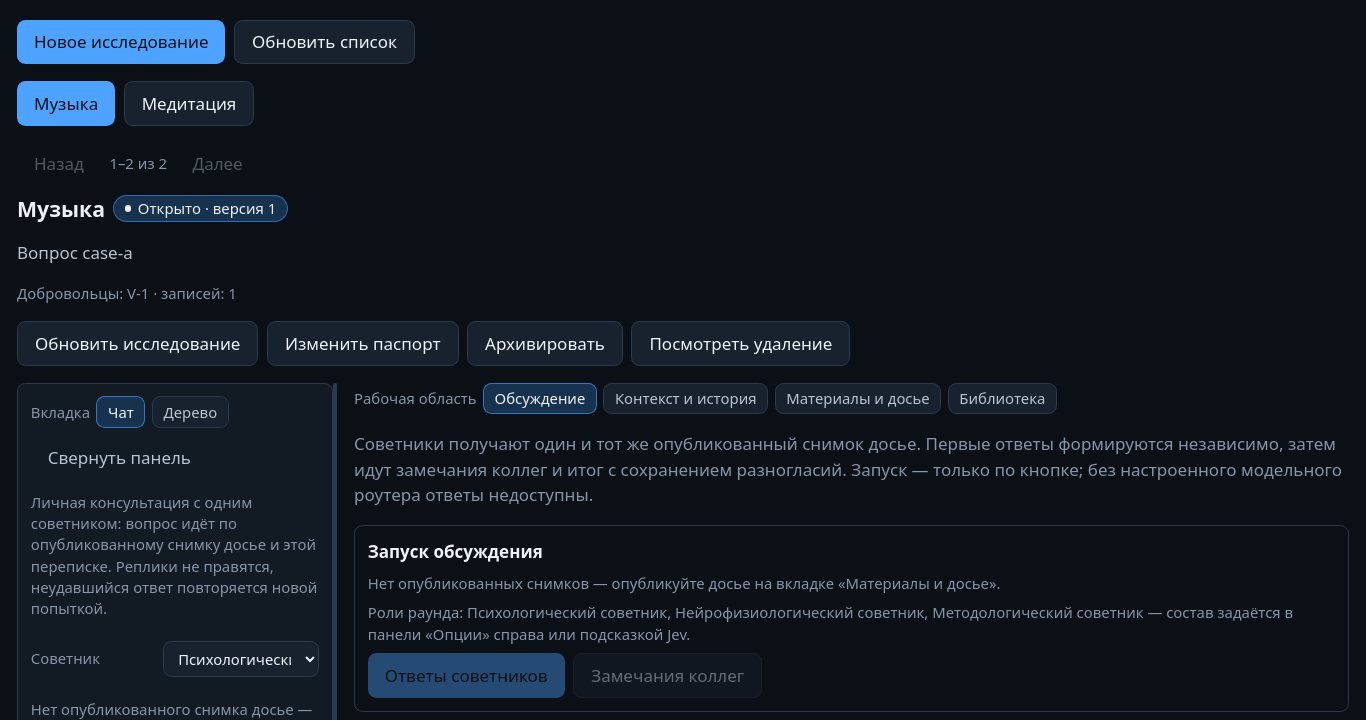
Test: Консилиум: ручное исследование Т1 › показывает 409 и сохраняет введённый контекст
The image size is (1366, 720).
Check: the heading "Музыка" is shown, box [17,194,105,223]
Step 1. Click the button "Контекст и история" → {"x": 686, "y": 398}, box [603,382,768,414]
(page scrolled)
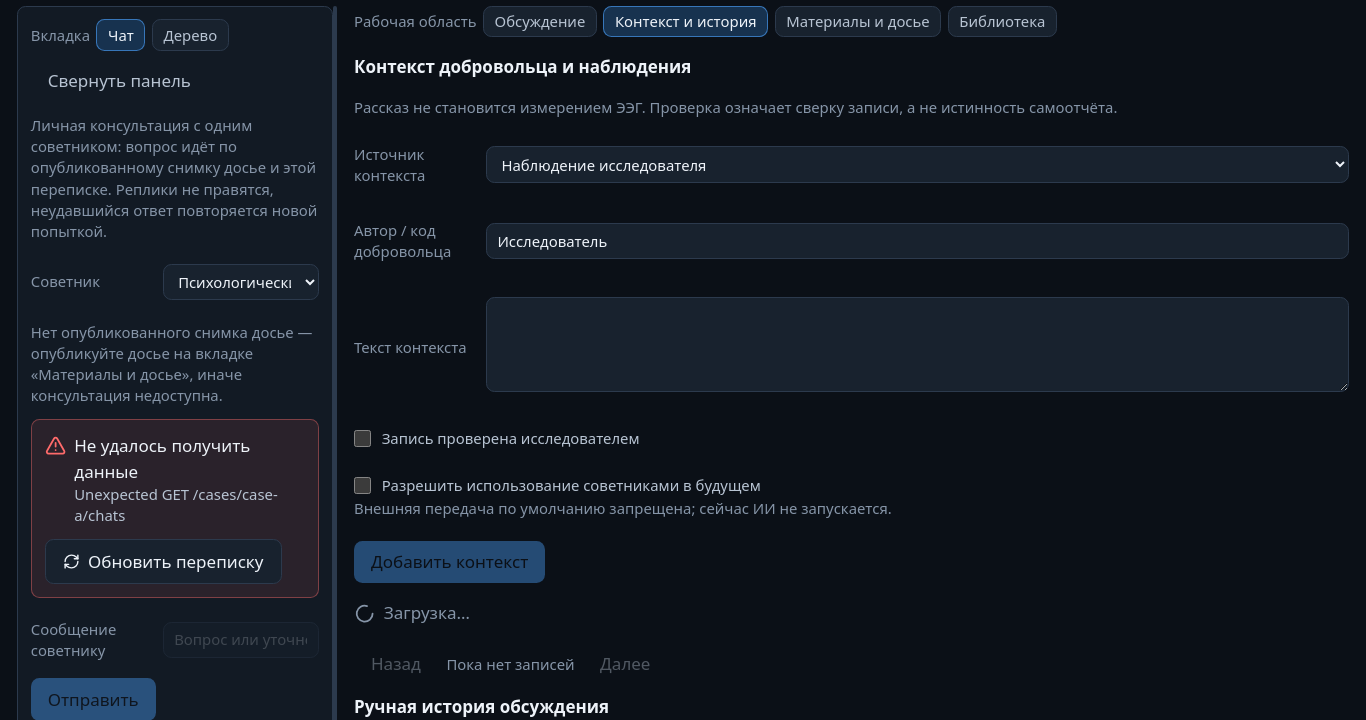
Step 2. Type "Черновик" into the text box labelled "Текст контекста" → {"x": 917, "y": 344}, box [486,296,1349,392]
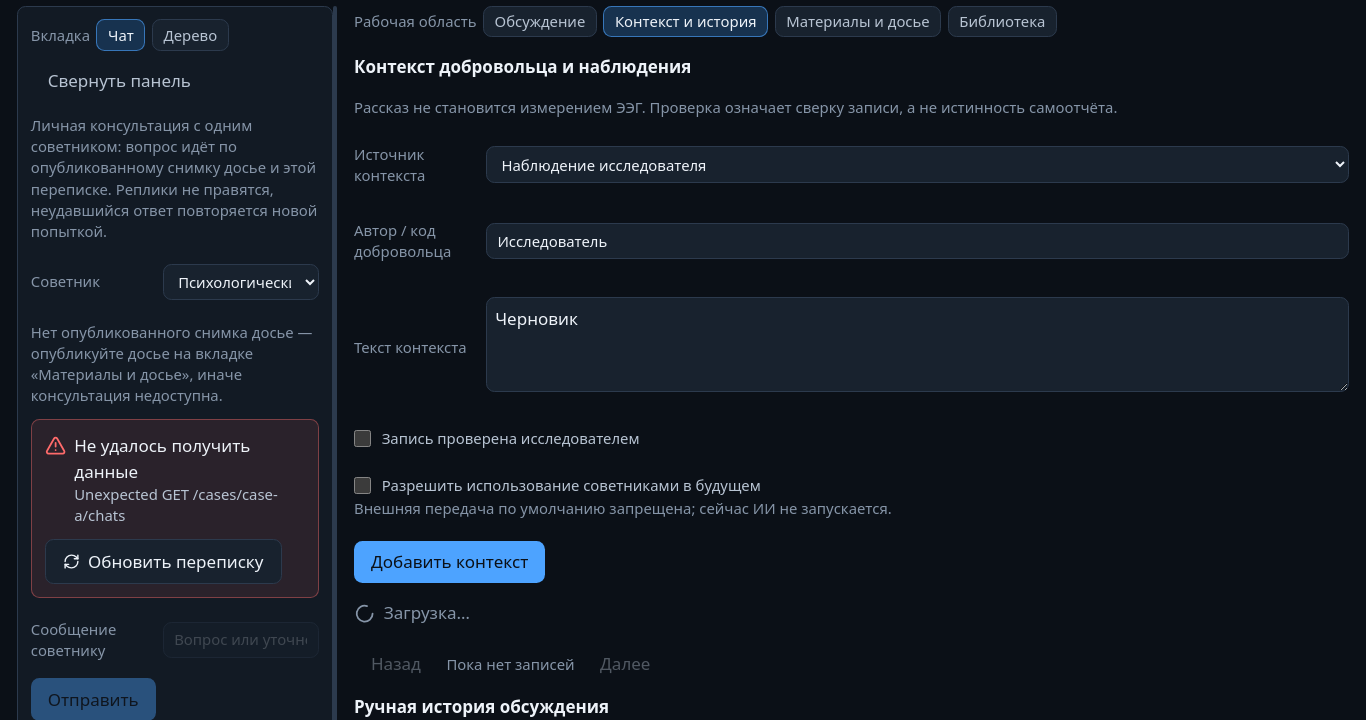
Step 3. Click the button "Добавить контекст" → {"x": 450, "y": 562}, box [354,541,545,583]
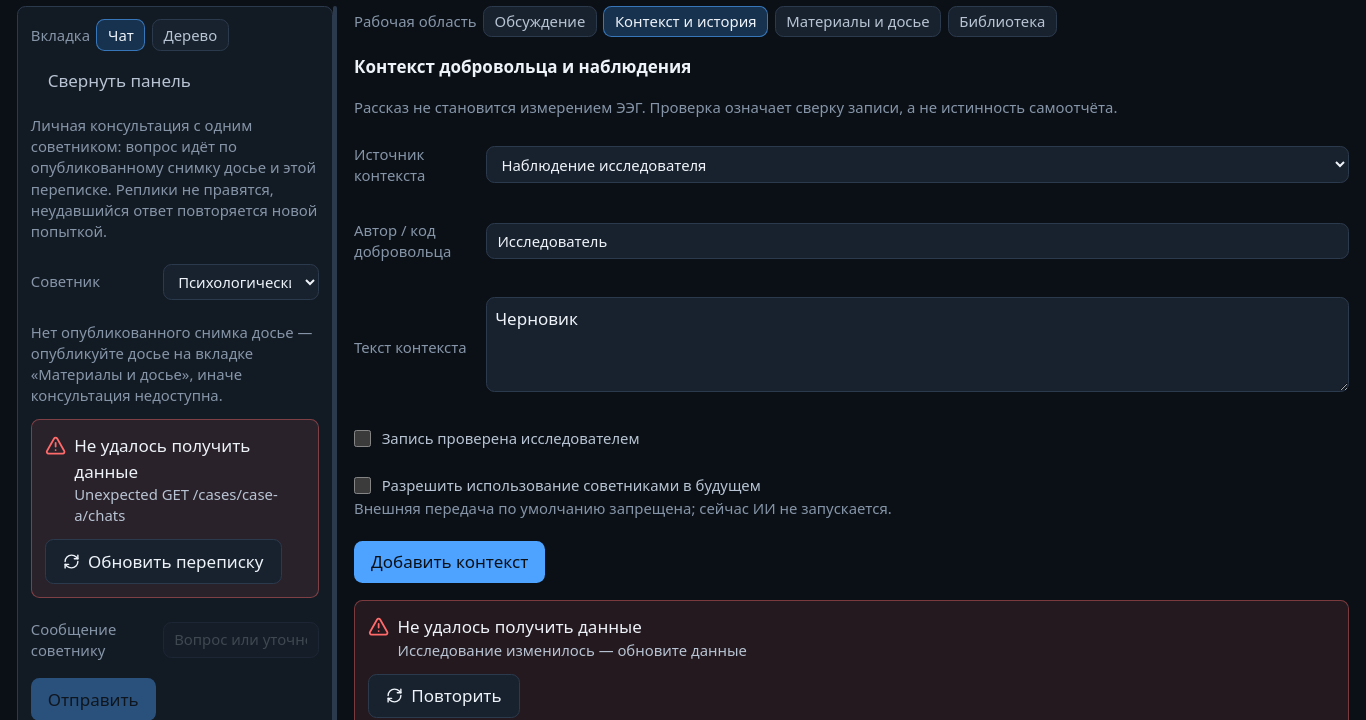
Check: the text "Исследование изменилось — обновите данные" is shown, box [398,640,747,661]
